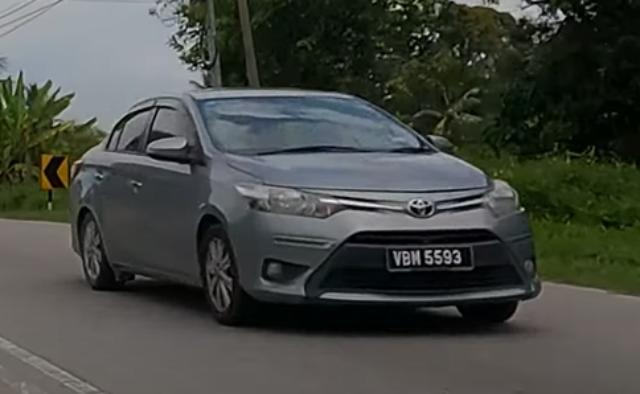License_Plate: (385, 245, 476, 274)
car: (69, 82, 543, 326)
